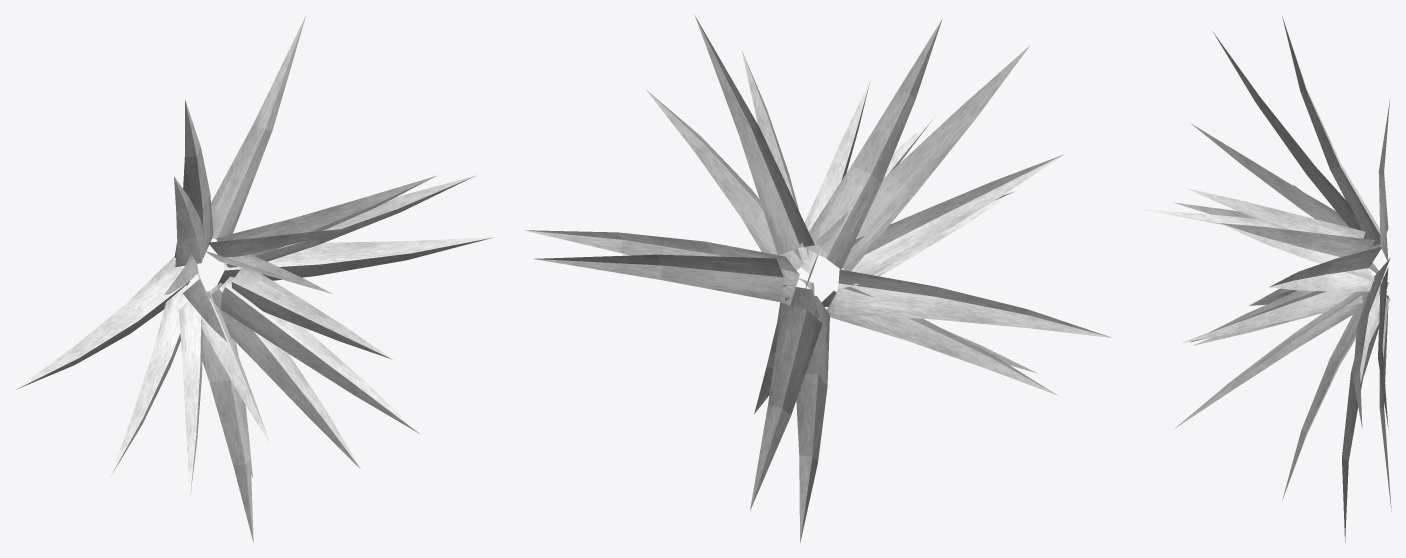
File: SM_Plant_Agave.obj
The picture shows the model from 3 angles, left to right: view 1: azimuth 30°, elevation 25°; view 2: azimuth 150°, elevation 25°; view 3: azimuth 270°, elevation 25°; orthographic projection. The views are drawn at different scales.
Visible parts, largest first — view 1: SM_Plant_Agave; view 2: SM_Plant_Agave; view 3: SM_Plant_Agave.
Part boxes in pixels (x1=…): SM_Plant_Agave: x1=14, y1=15, x2=493, y2=542; SM_Plant_Agave: x1=525, y1=15, x2=1112, y2=543; SM_Plant_Agave: x1=1143, y1=16, x2=1391, y2=542.
Size of the model in its own units: 176 by 161 by 75.25.
2 materials, 2 textured.
